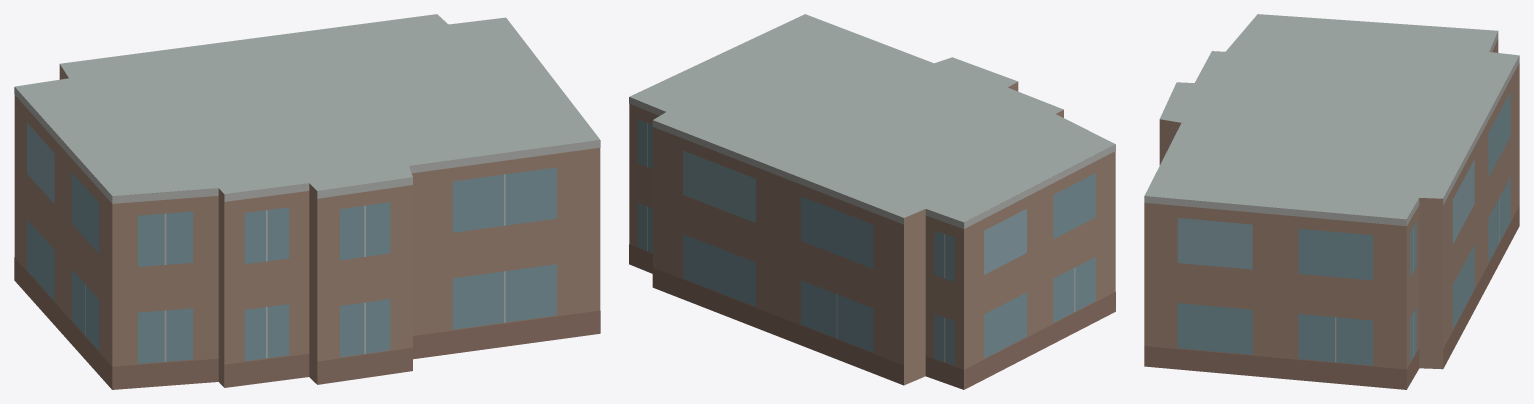
File: survey-upis-32613212.glb
3 views of the same model, side by side, from view 1: azimuth 30°, elevation 25°; view 2: azimuth 150°, elevation 25°; view 3: azimuth 270°, elevation 25° (orthographic). The views are drawn at different scales.
Parts seen in each view (by area): view 1: survey-upis-32613212.tmp; view 2: survey-upis-32613212.tmp; view 3: survey-upis-32613212.tmp.
Part boxes in pixels (x1,y1,x2,y2): survey-upis-32613212.tmp: [14, 14, 600, 389]; survey-upis-32613212.tmp: [629, 14, 1115, 389]; survey-upis-32613212.tmp: [1144, 14, 1519, 389].
Bounding box in the file's own units: 15.77 × 6.1 × 12.18.
